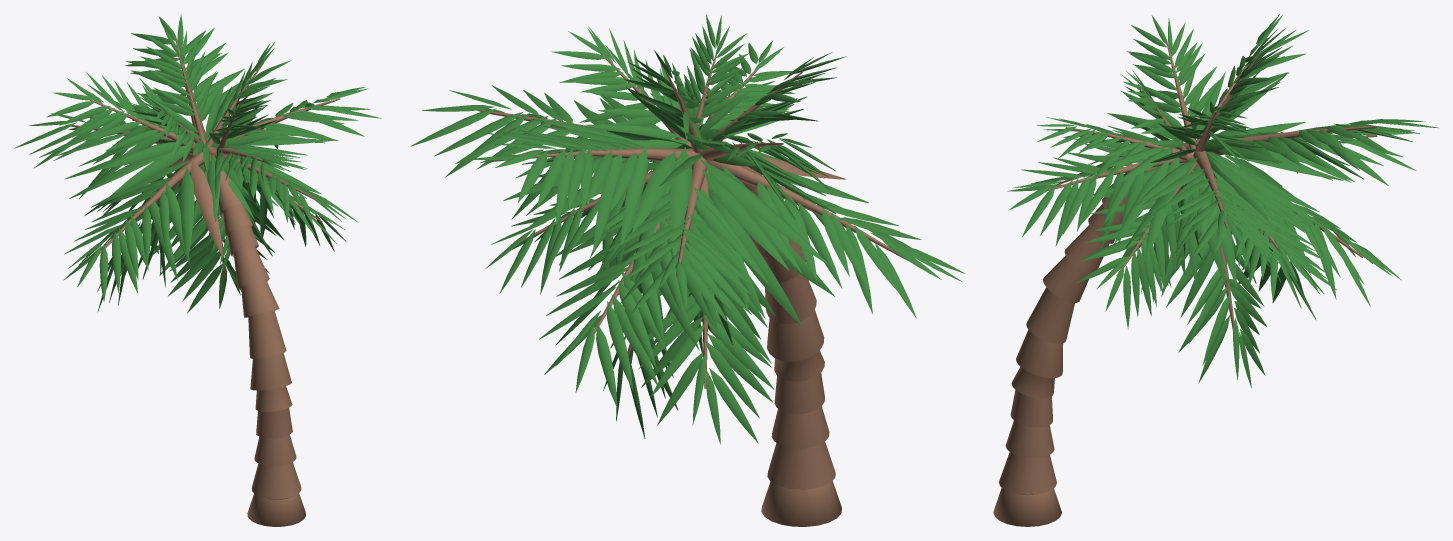
The model's file is PalmTree.fbx.
3 renders of one model, left to right at view 1: azimuth 30°, elevation 25°; view 2: azimuth 150°, elevation 25°; view 3: azimuth 270°, elevation 25°, orthographic. The views are drawn at different scales.
Parts seen in each view (by area): view 1: polySurface39; view 2: polySurface39; view 3: polySurface39.
Part boxes in pixels (bbox=[...]): polySurface39: bbox=[14, 14, 381, 526]; polySurface39: bbox=[410, 14, 964, 526]; polySurface39: bbox=[993, 14, 1438, 526].
Size of the model in its own units: 18.34 by 21.14 by 17.8.
